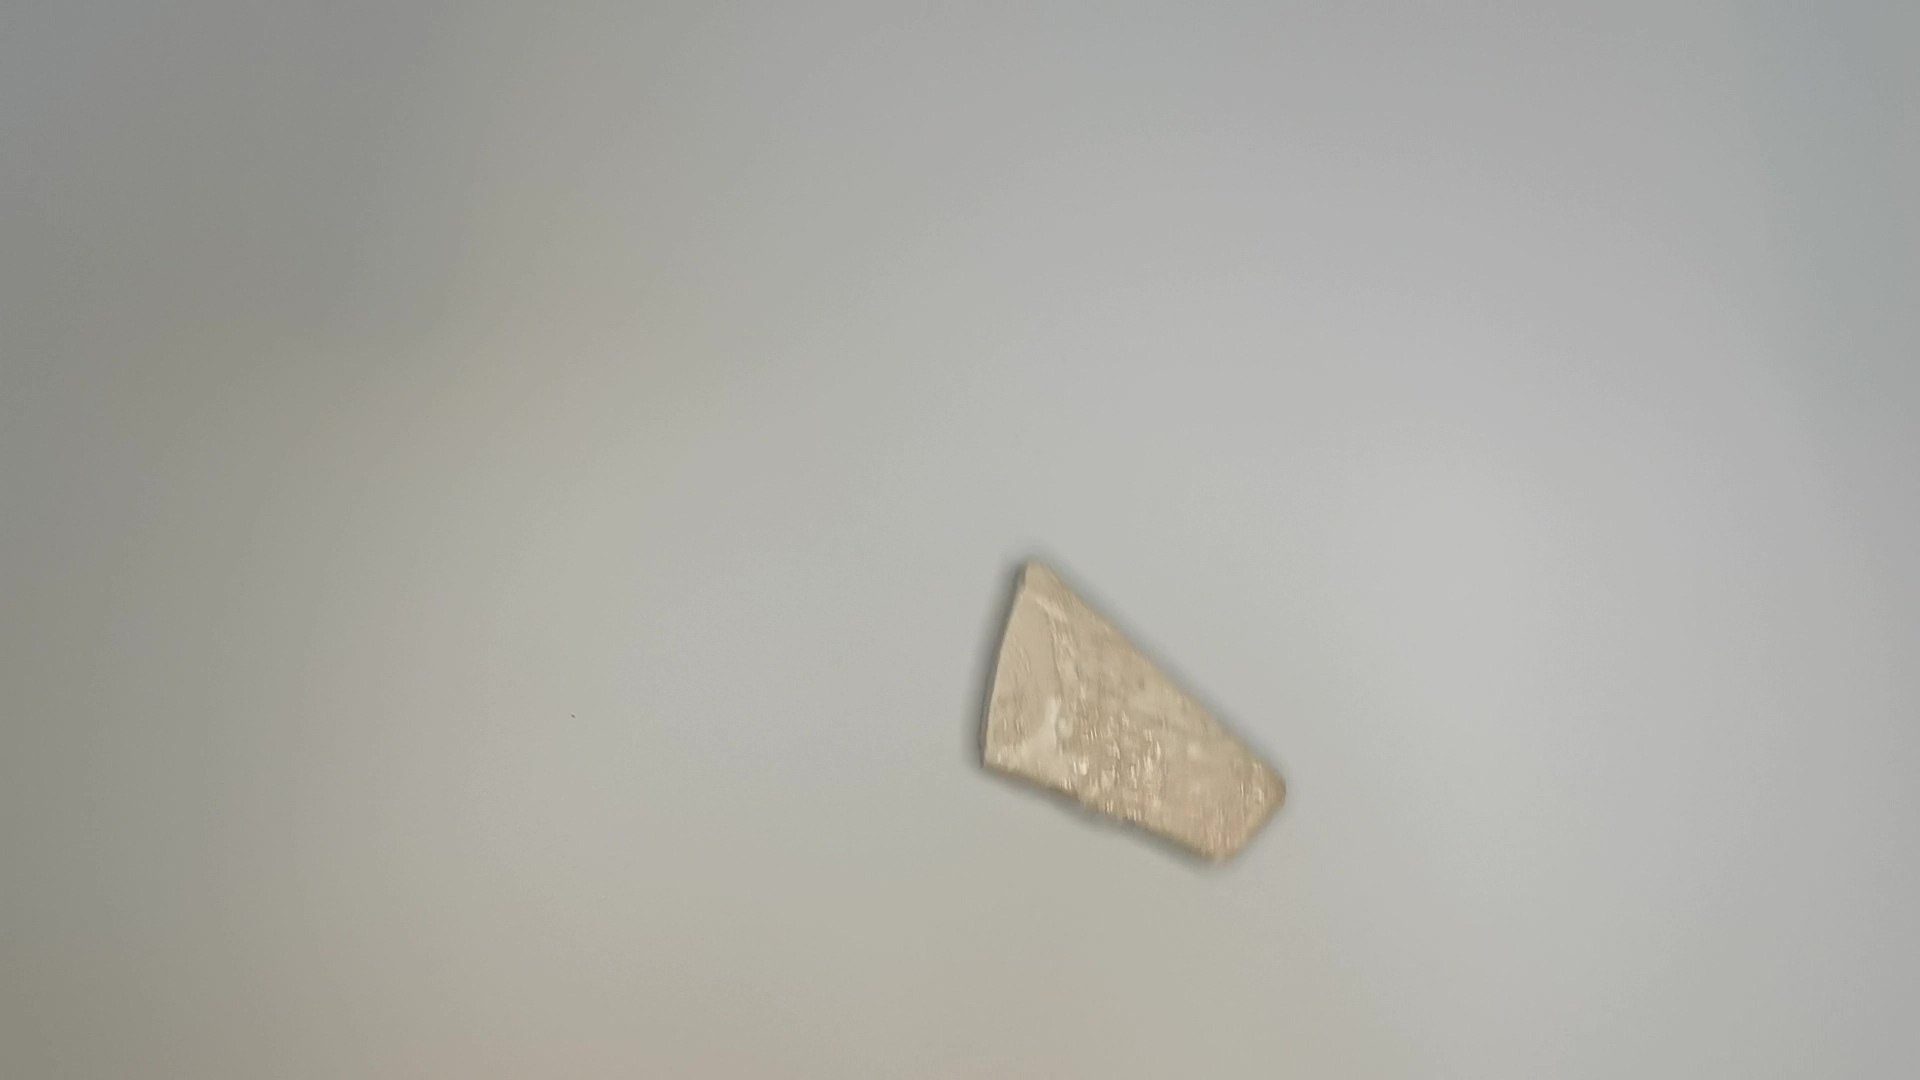ceramic: (969, 556, 1291, 874)
